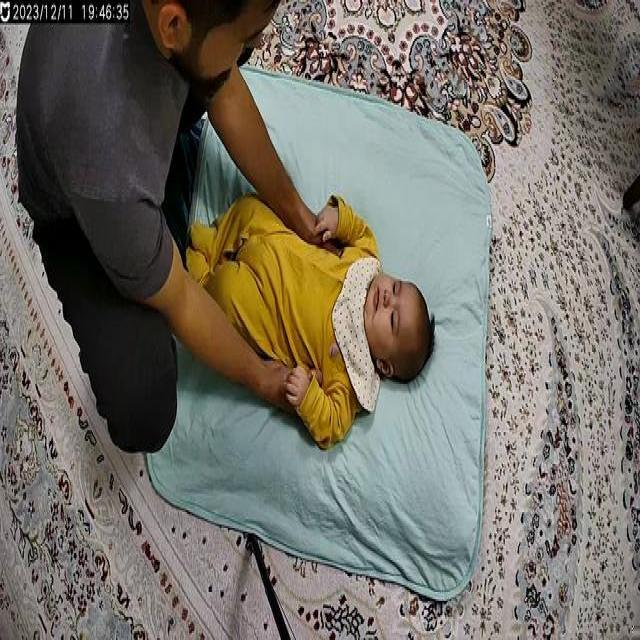baby: (183, 192, 442, 464)
